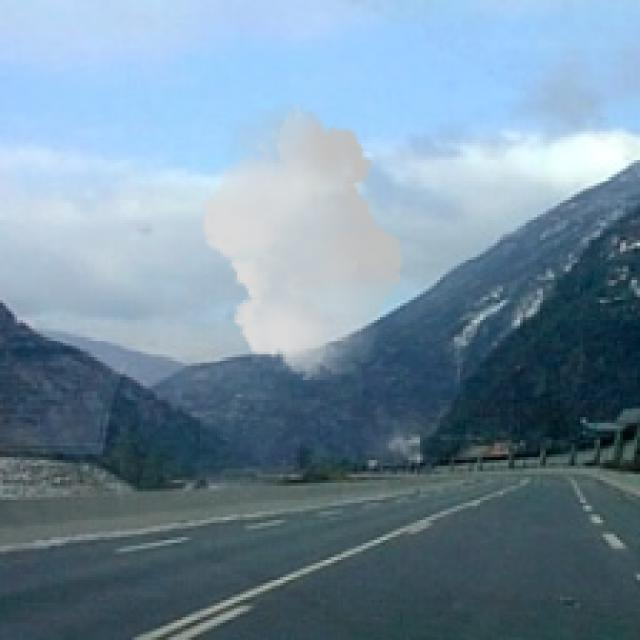smoke: (195, 103, 412, 380)
